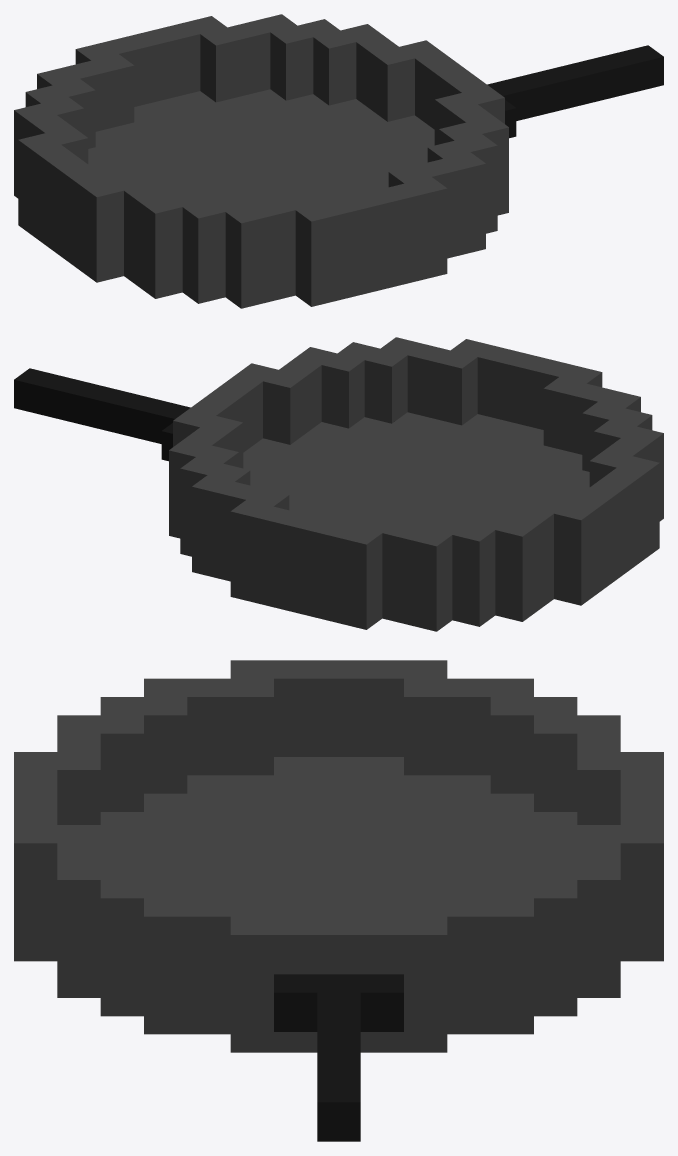
File: pan.obj
3 renders of one model, top to bottom at view 1: azimuth 30°, elevation 25°; view 2: azimuth 150°, elevation 25°; view 3: azimuth 270°, elevation 25°, orthographic. The views are drawn at different scales.
Visible parts, largest first — view 1: pan; view 2: pan; view 3: pan.
Part boxes in pixels (x1=…): pan: x1=14, y1=14, x2=663, y2=308; pan: x1=14, y1=337, x2=663, y2=631; pan: x1=14, y1=660, x2=663, y2=1141.
Bounding box in the file's own units: 2.2 × 0.3 × 1.5.
1 material, 1 textured.
